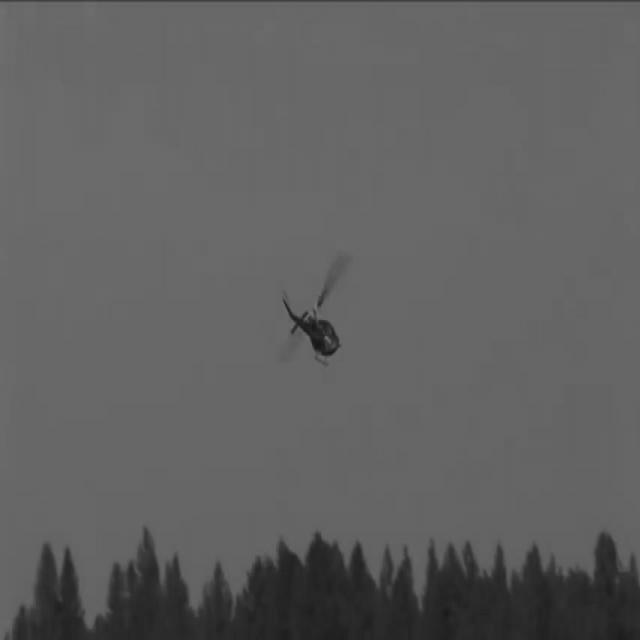helikopter: (268, 252, 372, 375)
